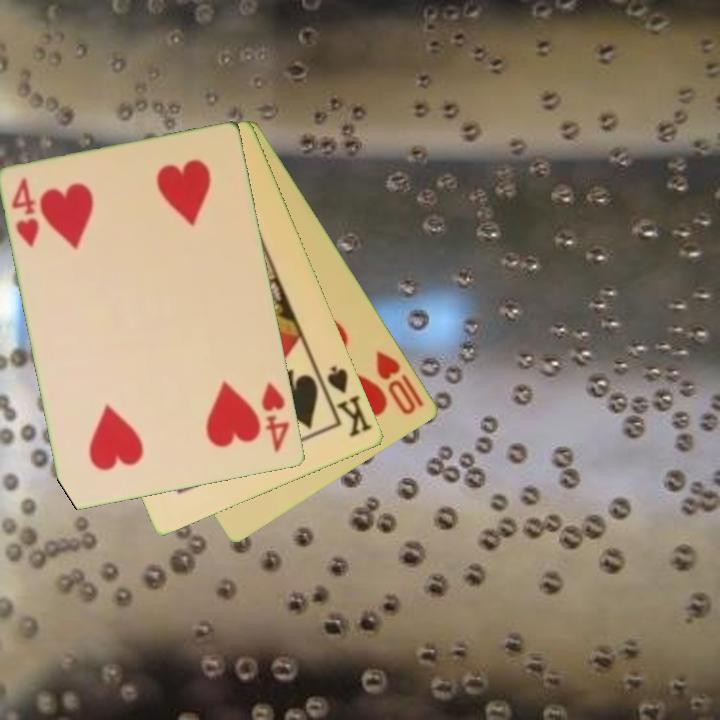10h: (372, 347, 428, 418)
4h: (258, 379, 293, 456), (8, 174, 43, 251)
Ks: (315, 362, 376, 440)
